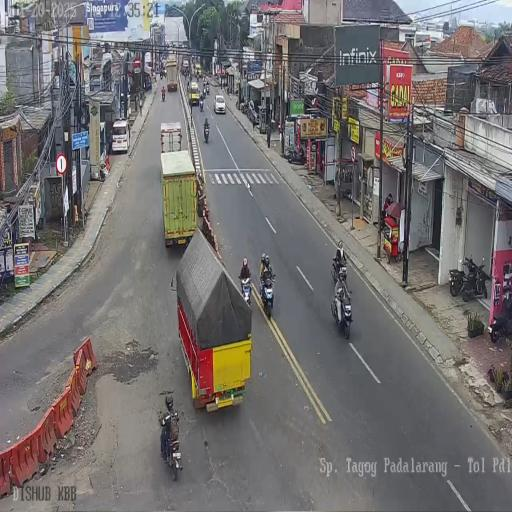car: (110, 118, 130, 154), (188, 80, 200, 106), (247, 100, 258, 124), (213, 94, 226, 114), (195, 62, 202, 76)
motorcycle: (158, 410, 182, 480), (460, 254, 490, 302), (330, 276, 352, 338), (488, 300, 511, 342), (259, 272, 276, 320), (449, 268, 465, 296), (240, 276, 253, 309), (286, 144, 306, 165), (342, 184, 353, 200), (240, 98, 249, 115), (203, 122, 209, 142), (199, 97, 204, 111), (161, 88, 166, 101), (205, 82, 210, 94), (159, 67, 163, 79), (163, 68, 167, 79), (236, 99, 239, 111), (154, 74, 157, 83)
truck: (176, 230, 252, 412), (160, 147, 198, 250), (160, 121, 182, 153), (165, 56, 178, 92), (181, 58, 190, 75)
